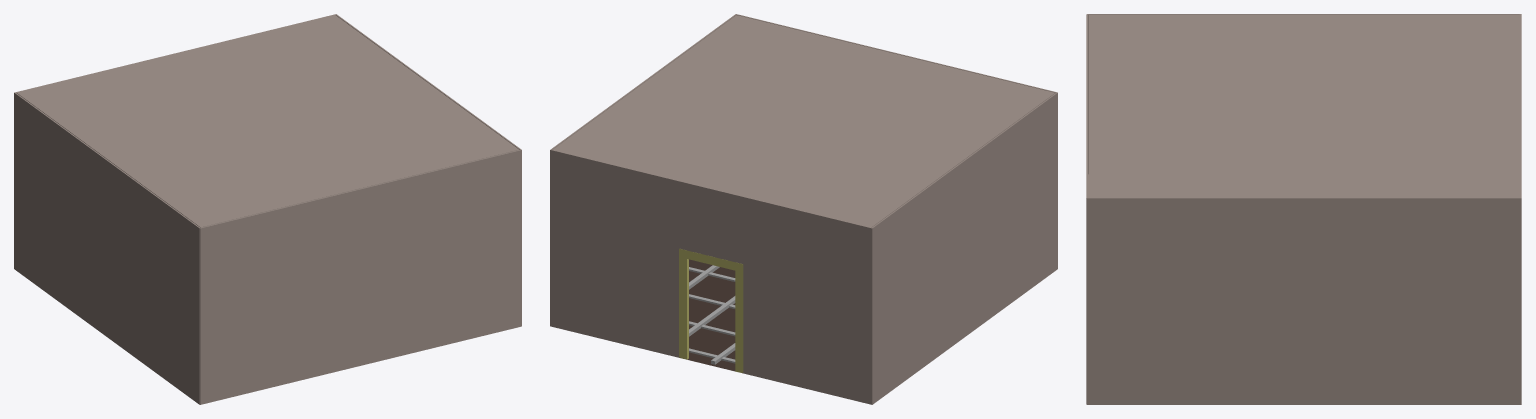
The model's file is Room33_MysticElevator.fbx.
3 views of the same model, side by side, from view 1: azimuth 30°, elevation 25°; view 2: azimuth 150°, elevation 25°; view 3: azimuth 270°, elevation 25° (orthographic). The views are drawn at different scales.
Visible parts, largest first — view 1: Roof, WallPosZ, WallPosX, WallPosZ7, WallPosX2, WallNegX; view 2: Roof, WallSlicedNegZ, WallPosX, WallSlicedNegZ13, WallPosX2, Floor, DoorFrameNegZ, WallNegX, WallPosZ; view 3: Roof, WallNegX, WallNegX20, WallPosX, WallSlicedNegZ, WallPosZ.
Part boxes in pixels (left/top/right/bottom): Roof: left=17, top=15, right=518, bottom=227; WallPosZ: left=200, top=149, right=521, bottom=364; WallPosX: left=14, top=92, right=200, bottom=364; WallPosZ7: left=200, top=286, right=521, bottom=404; WallPosX2: left=14, top=229, right=199, bottom=404; WallNegX: left=335, top=14, right=521, bottom=285; Roof: left=553, top=15, right=1054, bottom=227; WallSlicedNegZ: left=550, top=149, right=872, bottom=364; WallPosX: left=871, top=92, right=1057, bottom=364; WallSlicedNegZ13: left=550, top=286, right=871, bottom=404; WallPosX2: left=870, top=229, right=1057, bottom=404; Floor: left=679, top=259, right=742, bottom=373; DoorFrameNegZ: left=679, top=248, right=743, bottom=372; WallNegX: left=550, top=14, right=735, bottom=285; WallPosZ: left=736, top=14, right=1057, bottom=92; Roof: left=1088, top=15, right=1519, bottom=197; WallNegX: left=1087, top=197, right=1521, bottom=357; WallNegX20: left=1087, top=357, right=1521, bottom=404; WallPosX: left=1087, top=14, right=1521, bottom=174; WallSlicedNegZ: left=1519, top=14, right=1521, bottom=197; WallPosZ: left=1086, top=14, right=1087, bottom=357.
Size of the model in its own units: 802 by 420 by 801.
